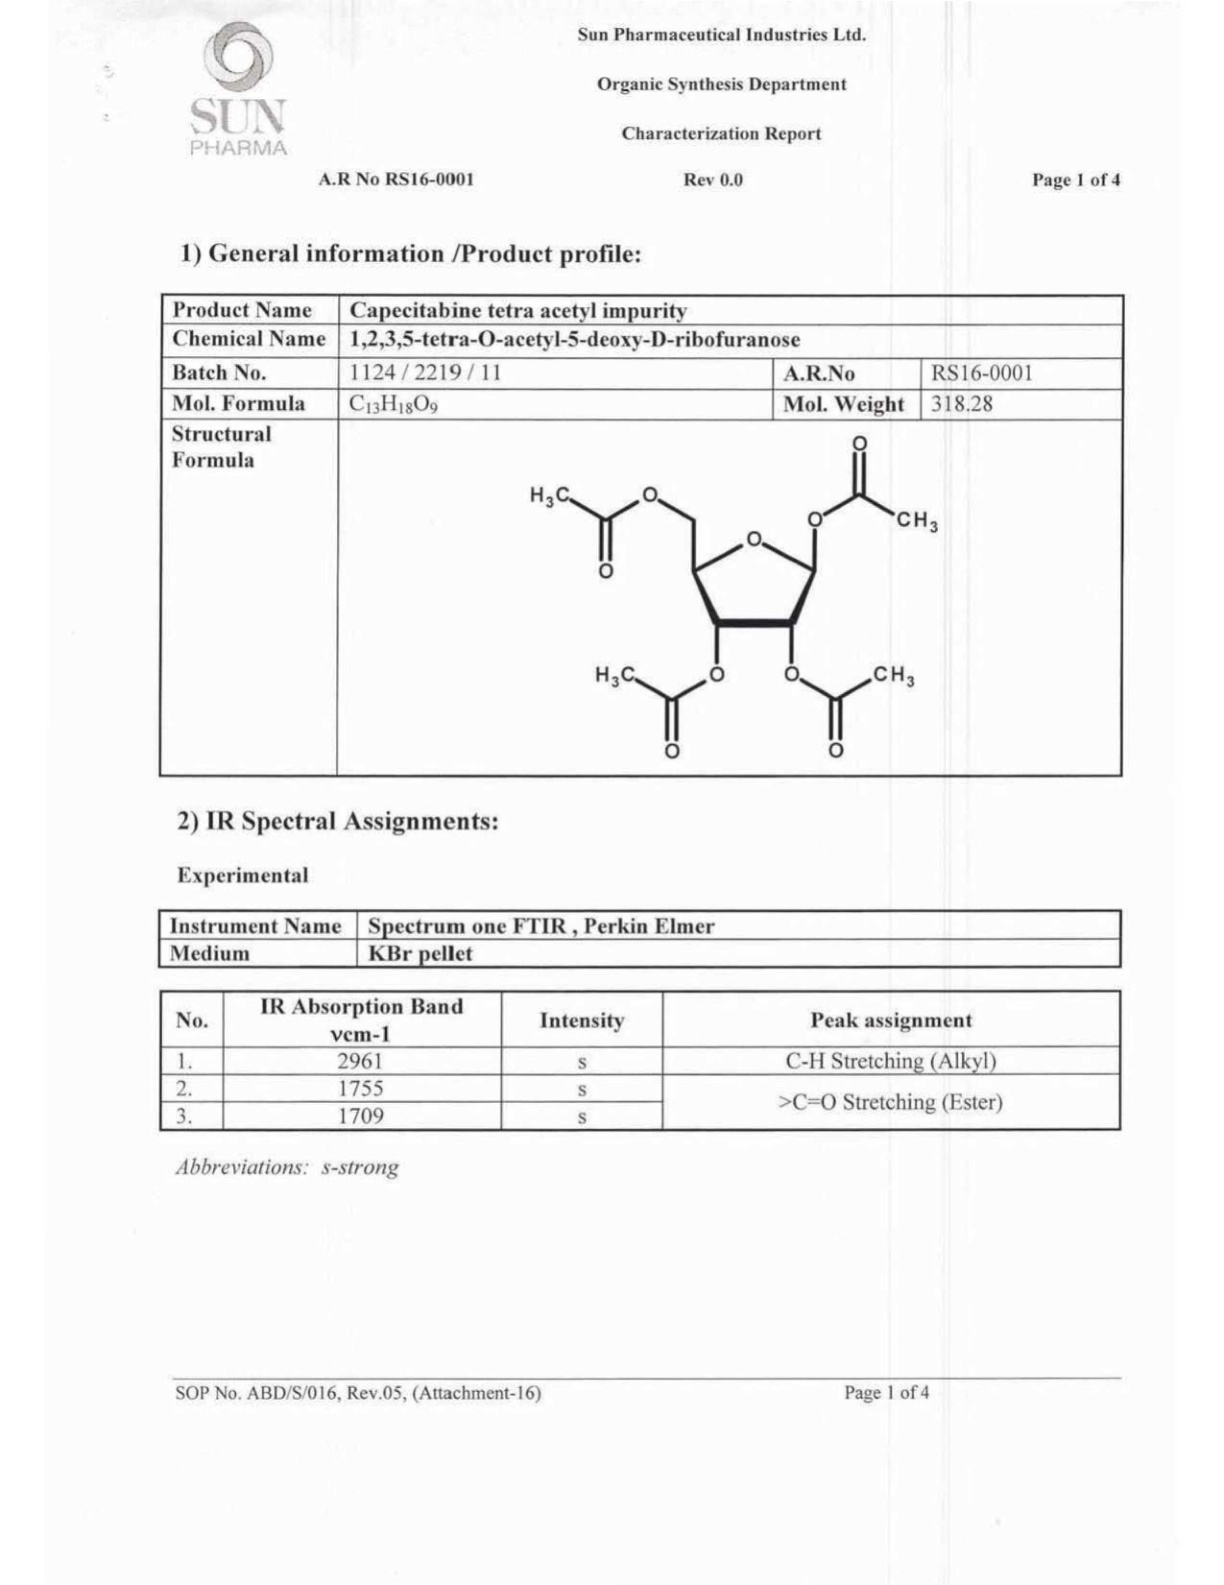full_lined: (156, 908, 1124, 971)
merged_cells: (159, 291, 1124, 778), (157, 989, 1122, 1133)
